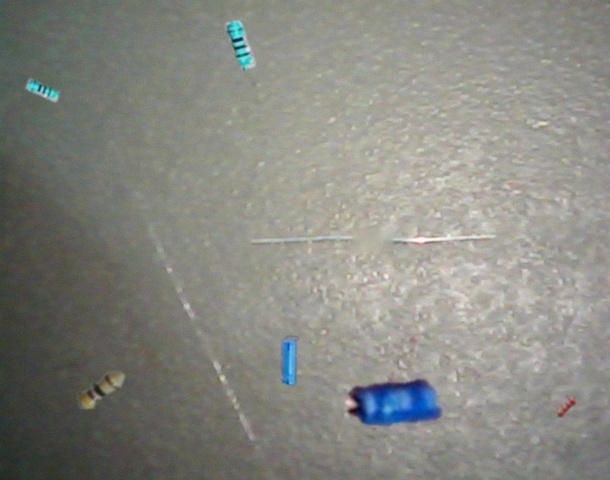capacitor: (344, 378, 442, 427), (281, 336, 299, 386)
resistor: (78, 371, 125, 410), (225, 19, 257, 71), (25, 79, 60, 102), (556, 397, 576, 417)
